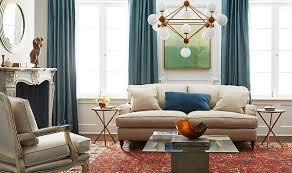chair: (0, 90, 89, 173)
light: (143, 0, 230, 61)
sofa: (118, 83, 257, 146)
table: (140, 130, 243, 173), (0, 68, 59, 130), (258, 106, 288, 149), (94, 107, 116, 147)
